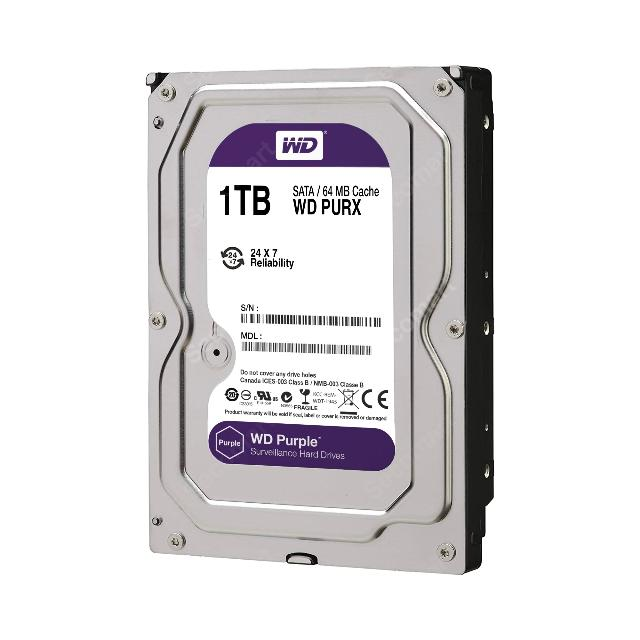HDD: (145, 67, 494, 577)
